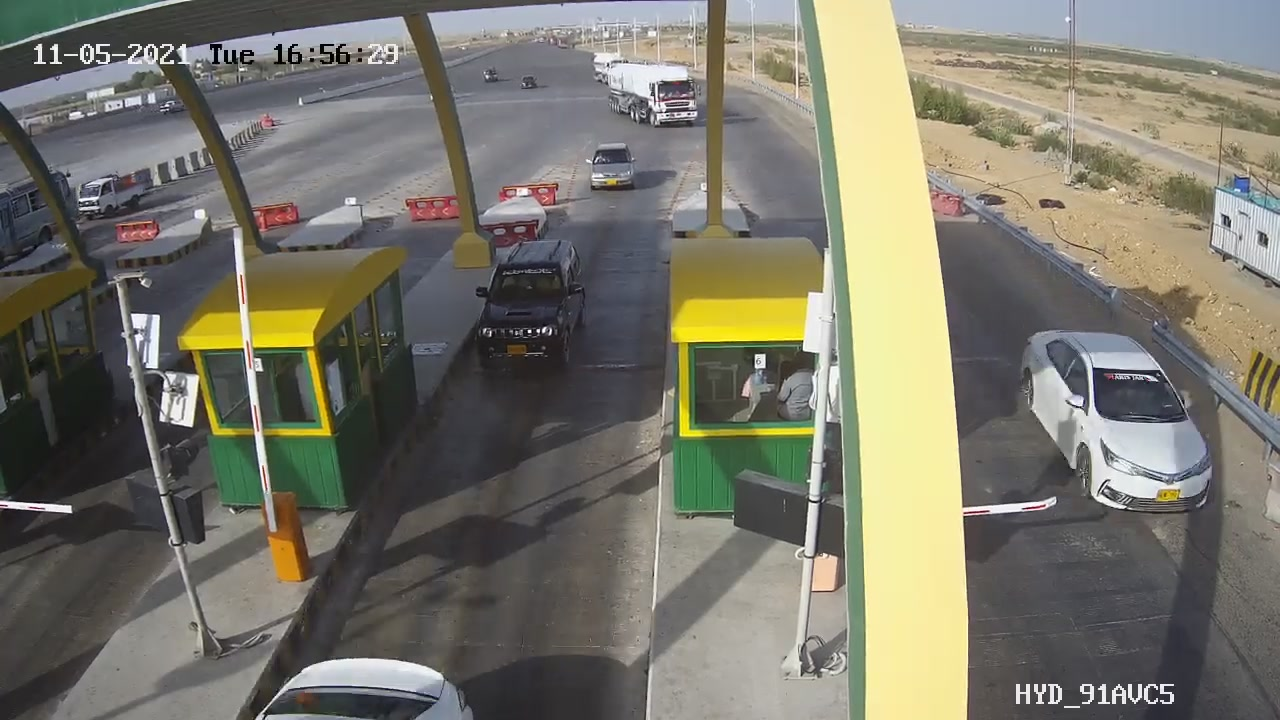F1: (457, 225, 600, 381)
